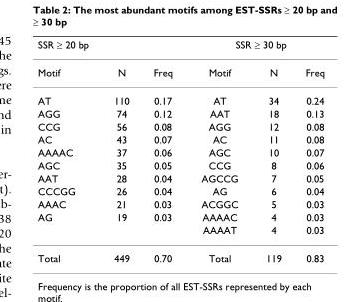table: (37, 37, 323, 263)
table column: (186, 37, 251, 263), (37, 37, 93, 263), (93, 37, 140, 263), (140, 37, 186, 263), (251, 37, 292, 263), (292, 37, 323, 263)
table column header: (37, 37, 323, 86)
table row: (37, 58, 323, 86), (37, 37, 323, 58), (37, 86, 323, 106), (37, 223, 323, 243), (37, 243, 323, 263), (37, 106, 323, 119), (37, 119, 323, 132), (37, 132, 323, 145), (37, 145, 323, 158), (37, 158, 323, 171), (37, 171, 323, 184), (37, 184, 323, 197), (37, 197, 323, 210), (37, 210, 323, 223)
table spanning cell: (37, 37, 186, 58), (186, 37, 323, 58), (37, 210, 93, 243)
